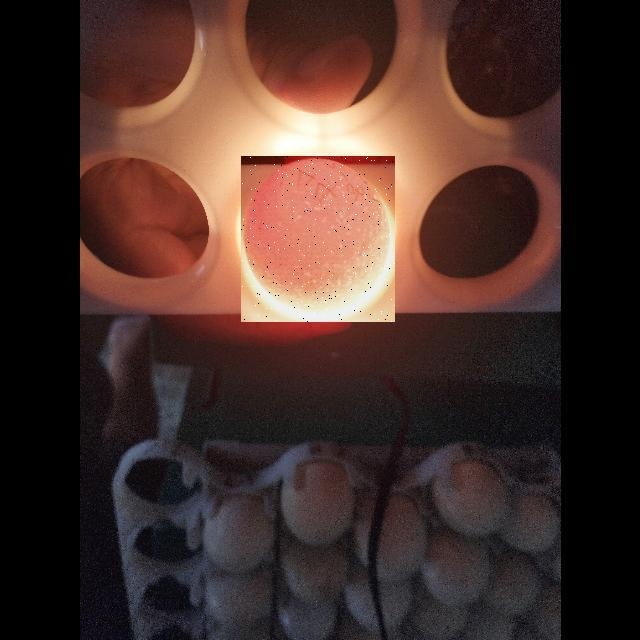Infertile: (241, 156, 395, 322)
